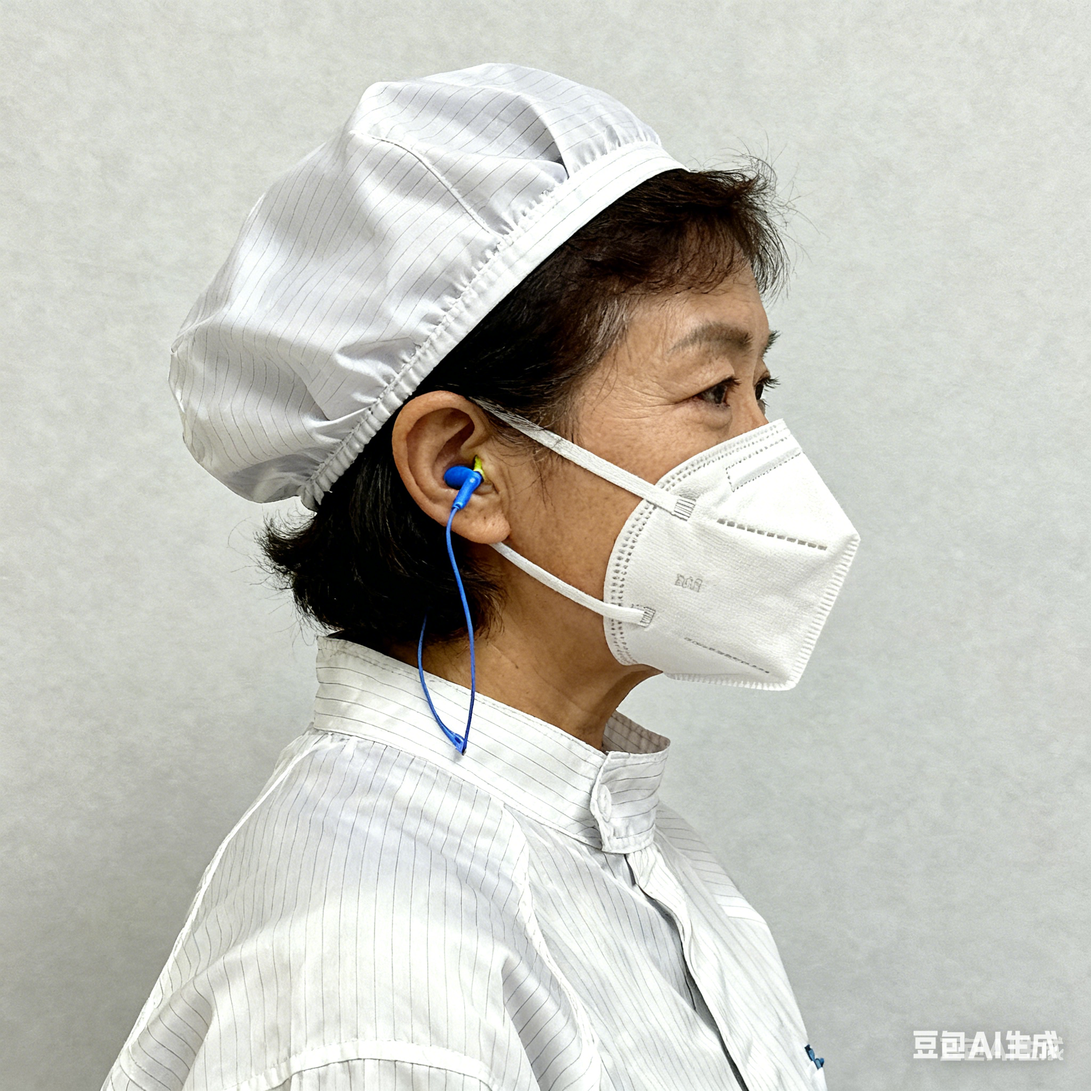MASK: (610, 415, 860, 687)
